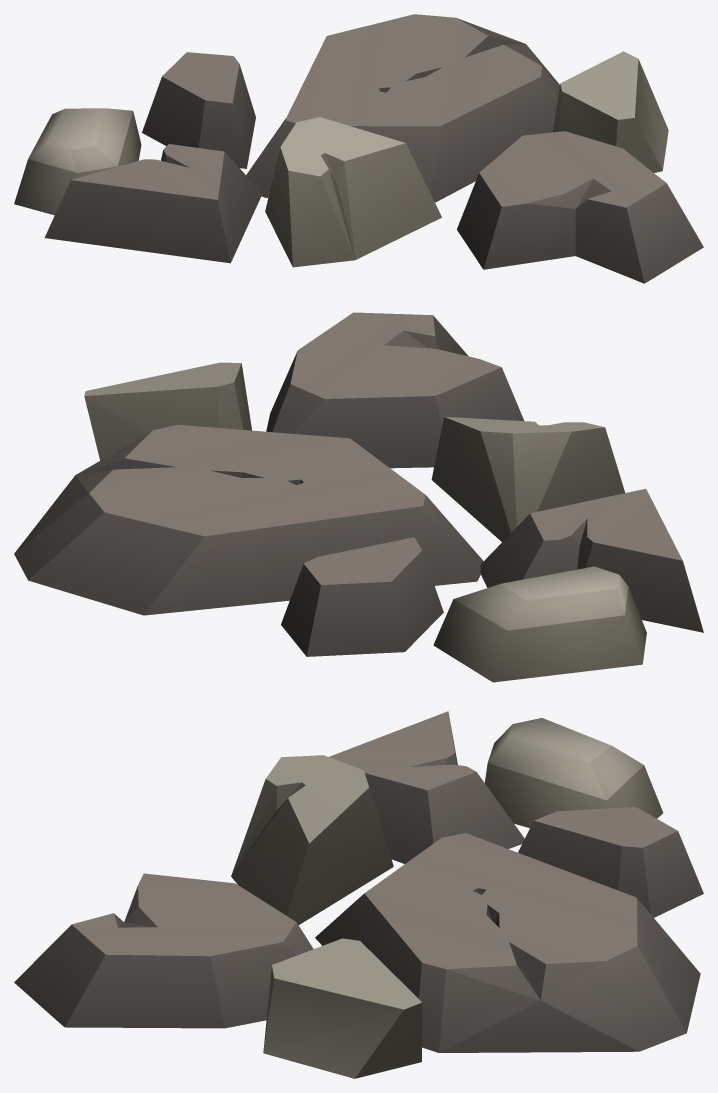
Rendered from Rock_Cluster_4A.fbx.
3 views of the same model, one above another, from view 1: azimuth 30°, elevation 25°; view 2: azimuth 150°, elevation 25°; view 3: azimuth 270°, elevation 25° (orthographic). The views are drawn at different scales.
Visible parts, largest first — view 1: Rock_Cluster_4A; view 2: Rock_Cluster_4A; view 3: Rock_Cluster_4A.
Part boxes in pixels (box(x1,y1,x2,y2)): Rock_Cluster_4A: box(14, 14, 703, 283); Rock_Cluster_4A: box(14, 312, 703, 682); Rock_Cluster_4A: box(14, 711, 703, 1078).
Size of the model in its own units: 1.64 by 0.2564 by 1.51.
